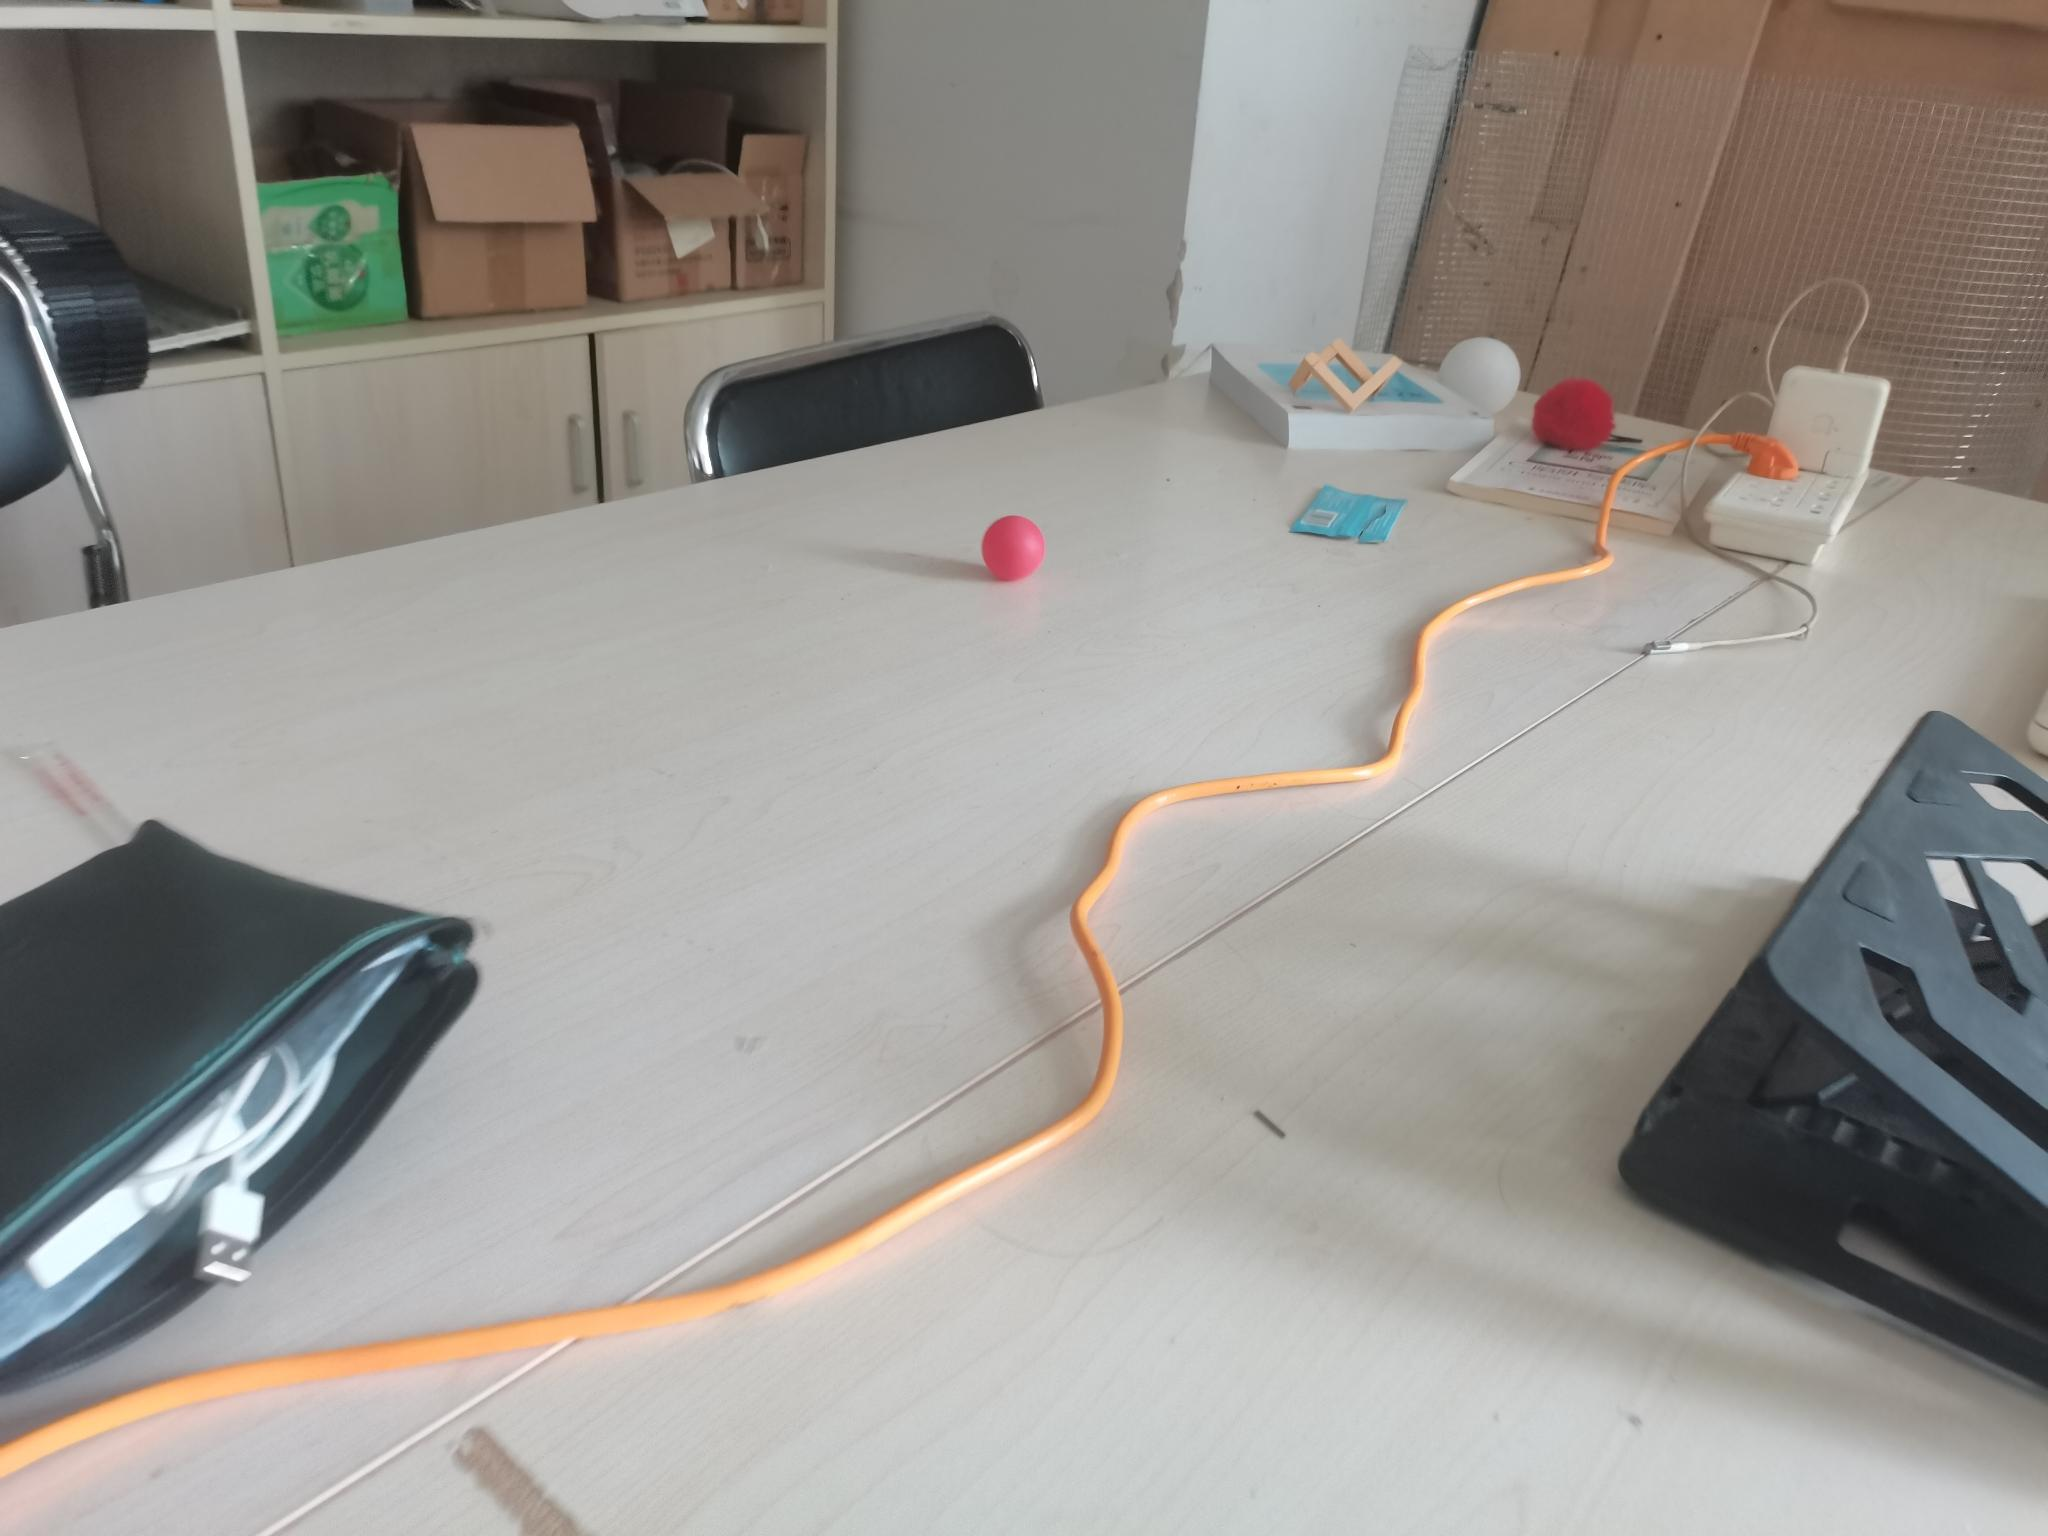ball: (979, 516, 1050, 579)
